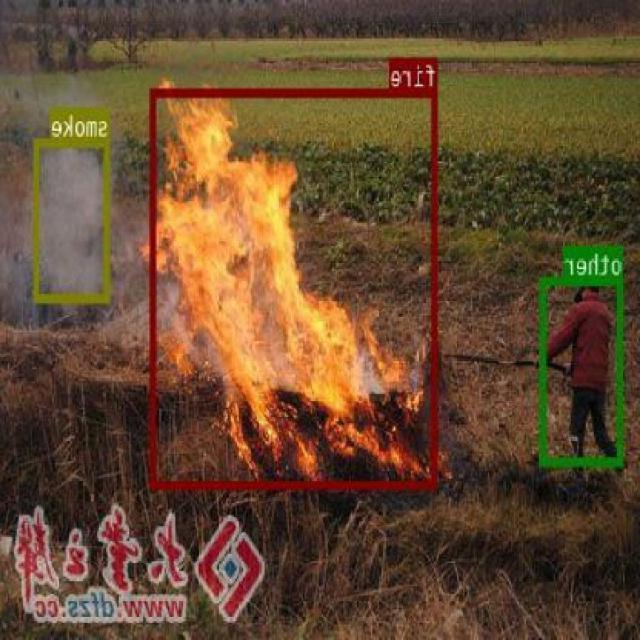Fire: (152, 88, 438, 488)
Smoke: (34, 137, 112, 300)
